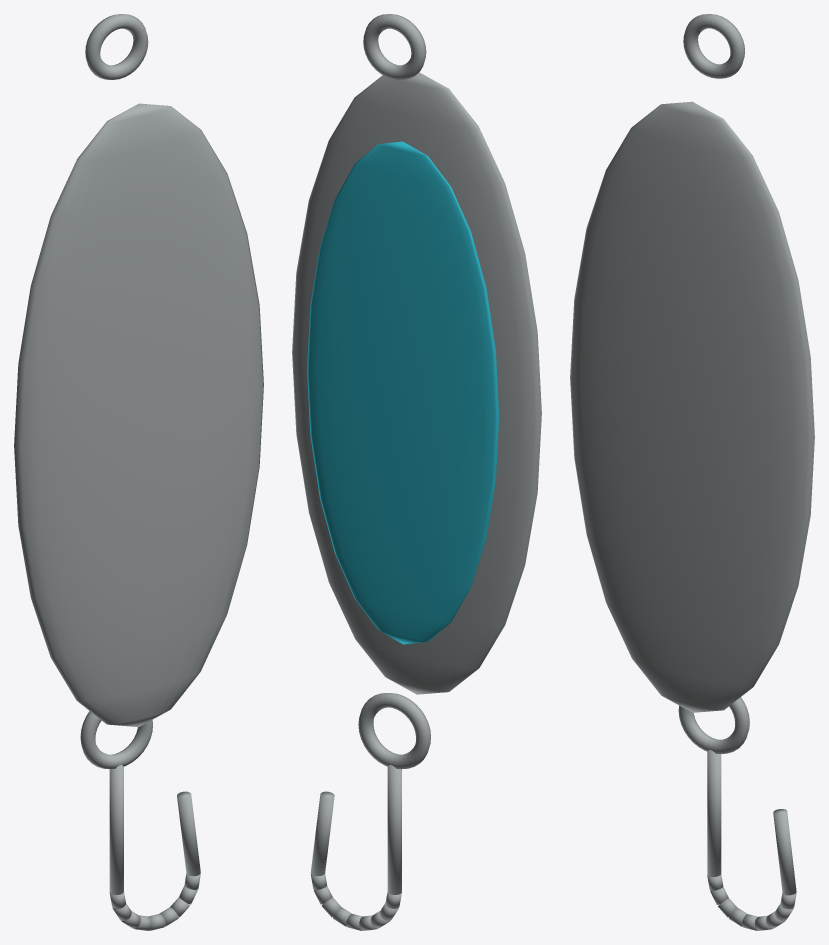
The model's file is casting_spoon.glb.
3 renders of one model, left to right at view 1: azimuth 30°, elevation 25°; view 2: azimuth 150°, elevation 25°; view 3: azimuth 330°, elevation 25°, orthographic. The views are drawn at different scales.
Visible parts, largest first — view 1: Tie eye.005; view 2: Tie eye.005; view 3: Tie eye.005.
Part boxes in pixels (<box>): Tie eye.005: <box>14,14,263,930</box>; Tie eye.005: <box>292,14,541,930</box>; Tie eye.005: <box>570,14,814,930</box>.
Size of the model in its own units: 0.026 by 0.0918 by 0.0067.
